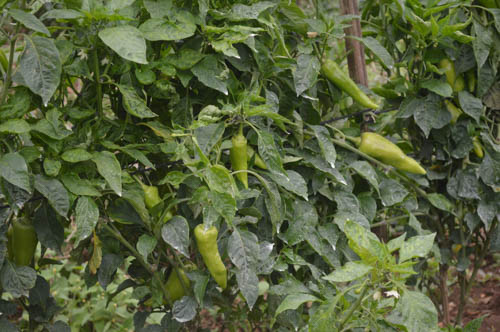ChiliPepper: (359, 131, 429, 175), (323, 62, 382, 108), (193, 225, 227, 286), (142, 267, 187, 308), (10, 219, 39, 266), (227, 140, 248, 187), (440, 59, 464, 97), (147, 186, 166, 218)
